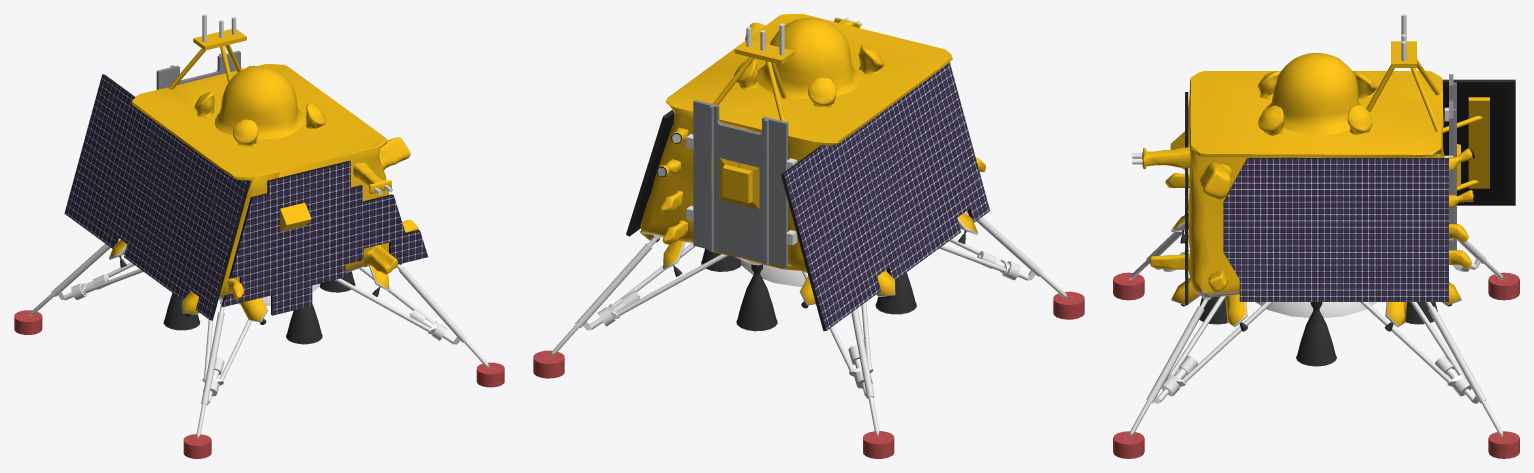
The model's file is vikram.glb.
3 views of the same model, side by side, from view 1: azimuth 30°, elevation 25°; view 2: azimuth 150°, elevation 25°; view 3: azimuth 270°, elevation 25° (orthographic). The views are drawn at different scales.
Visible parts, largest first — view 1: Vikram.Door_Vikram_0; view 2: Vikram.Door_Vikram_0; view 3: Vikram.Door_Vikram_0.
Boxes of the visible parts, <box> form: Vikram.Door_Vikram_0: <box>14,14,504,458</box>; Vikram.Door_Vikram_0: <box>533,14,1084,458</box>; Vikram.Door_Vikram_0: <box>1113,14,1519,458</box>.
Size of the model in its own units: 3.28 by 3.11 by 3.28.
1 material, 1 textured.
